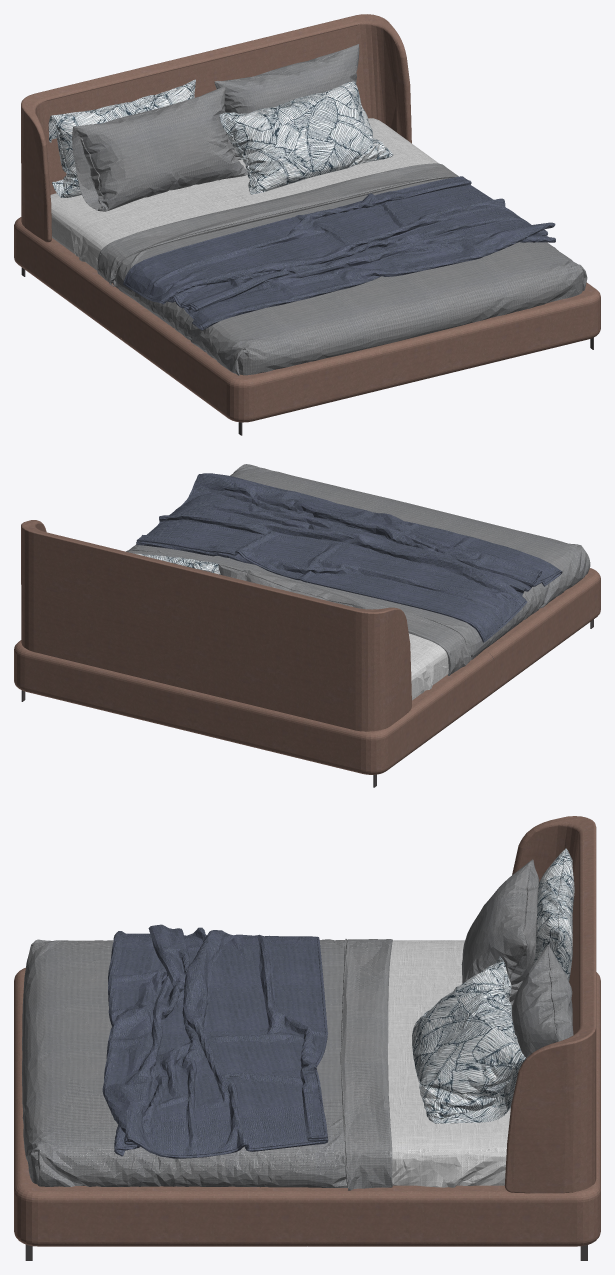
Rendered from cama.glb.
3 renders of one model, top to bottom at view 1: azimuth 30°, elevation 25°; view 2: azimuth 150°, elevation 25°; view 3: azimuth 270°, elevation 25°, orthographic. The views are drawn at different scales.
Parts seen in each view (by area): view 1: cama; view 2: cama; view 3: cama.
Part boxes in pixels (x1,y1,x2,y2): cama: [14, 14, 600, 435]; cama: [14, 464, 600, 787]; cama: [14, 816, 600, 1260].
Bounding box in the file's own units: 2.28 × 1.03 × 2.43.
Materials: 15 (15 with a texture image).
